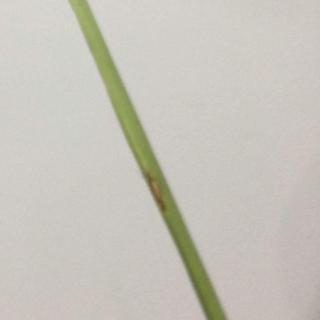Blast: (138, 147, 190, 242)
